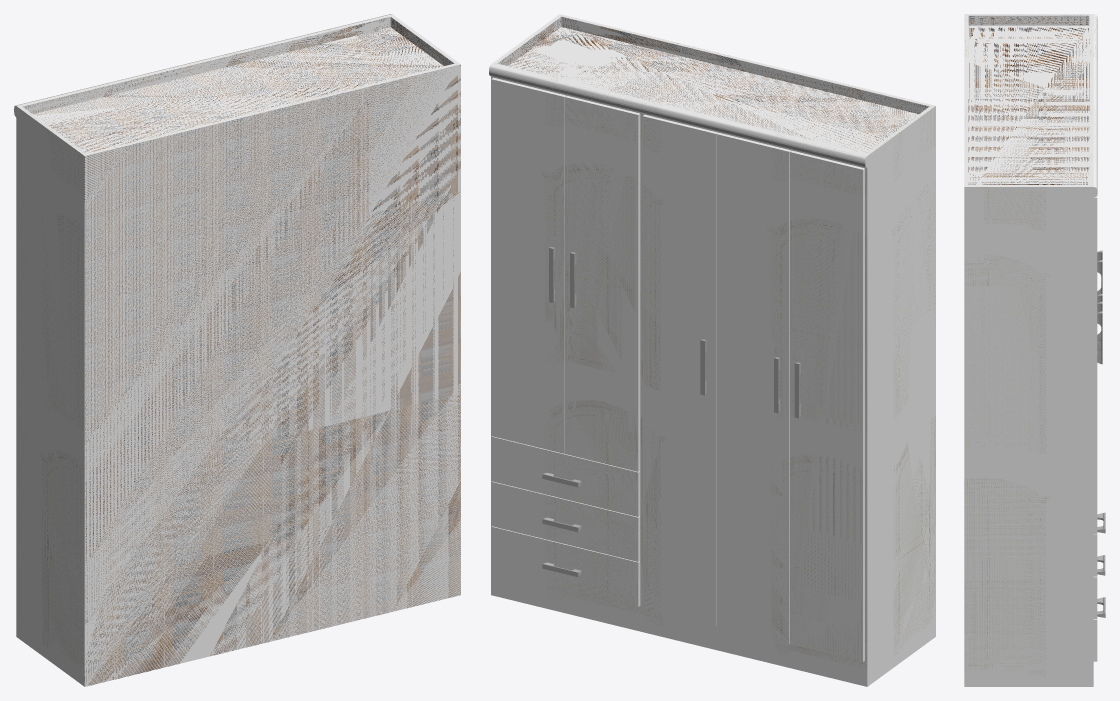
3 views of the same model, side by side, from view 1: azimuth 30°, elevation 25°; view 2: azimuth 150°, elevation 25°; view 3: azimuth 270°, elevation 25° (orthographic). The views are drawn at different scales.
Parts seen in each view (by area): view 1: mesh5_mesh5-geometry; view 2: mesh5_mesh5-geometry, mesh6_mesh6-geometry, mesh7_mesh7-geometry, mesh8_mesh8-geometry, mesh9_mesh9-geometry, mesh10_mesh10-geometry, mesh1_mesh1-geometry, mesh2_mesh2-geometry; view 3: mesh5_mesh5-geometry, mesh7_mesh7-geometry, mesh1_mesh1-geometry, mesh2_mesh2-geometry.
Part boxes in pixels (x1=…): mesh5_mesh5-geometry: x1=14, y1=14, x2=460, y2=686; mesh5_mesh5-geometry: x1=489, y1=14, x2=935, y2=686; mesh6_mesh6-geometry: x1=565, y1=95, x2=640, y2=471; mesh7_mesh7-geometry: x1=491, y1=77, x2=566, y2=453; mesh8_mesh8-geometry: x1=491, y1=436, x2=640, y2=516; mesh9_mesh9-geometry: x1=491, y1=526, x2=640, y2=606; mesh10_mesh10-geometry: x1=491, y1=481, x2=640, y2=561; mesh1_mesh1-geometry: x1=549, y1=247, x2=800, y2=418; mesh2_mesh2-geometry: x1=542, y1=472, x2=581, y2=576; mesh5_mesh5-geometry: x1=964, y1=14, x2=1097, y2=686; mesh7_mesh7-geometry: x1=1093, y1=196, x2=1097, y2=534; mesh1_mesh1-geometry: x1=1097, y1=250, x2=1102, y2=364; mesh2_mesh2-geometry: x1=1097, y1=512, x2=1105, y2=617.
Bounding box in the file's own units: 0.5834 × 0.7869 × 0.2012.
